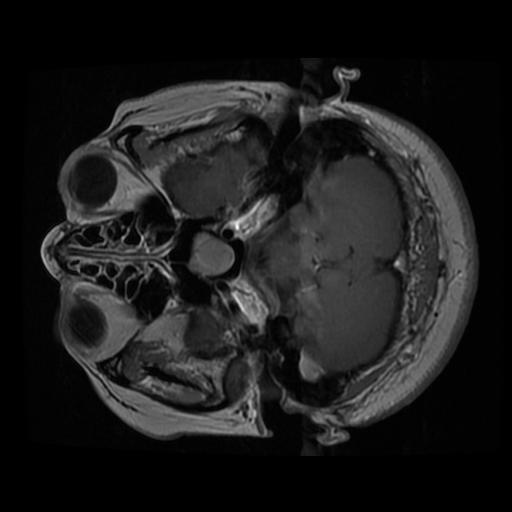pituitary tumour: (187, 233, 236, 279)
